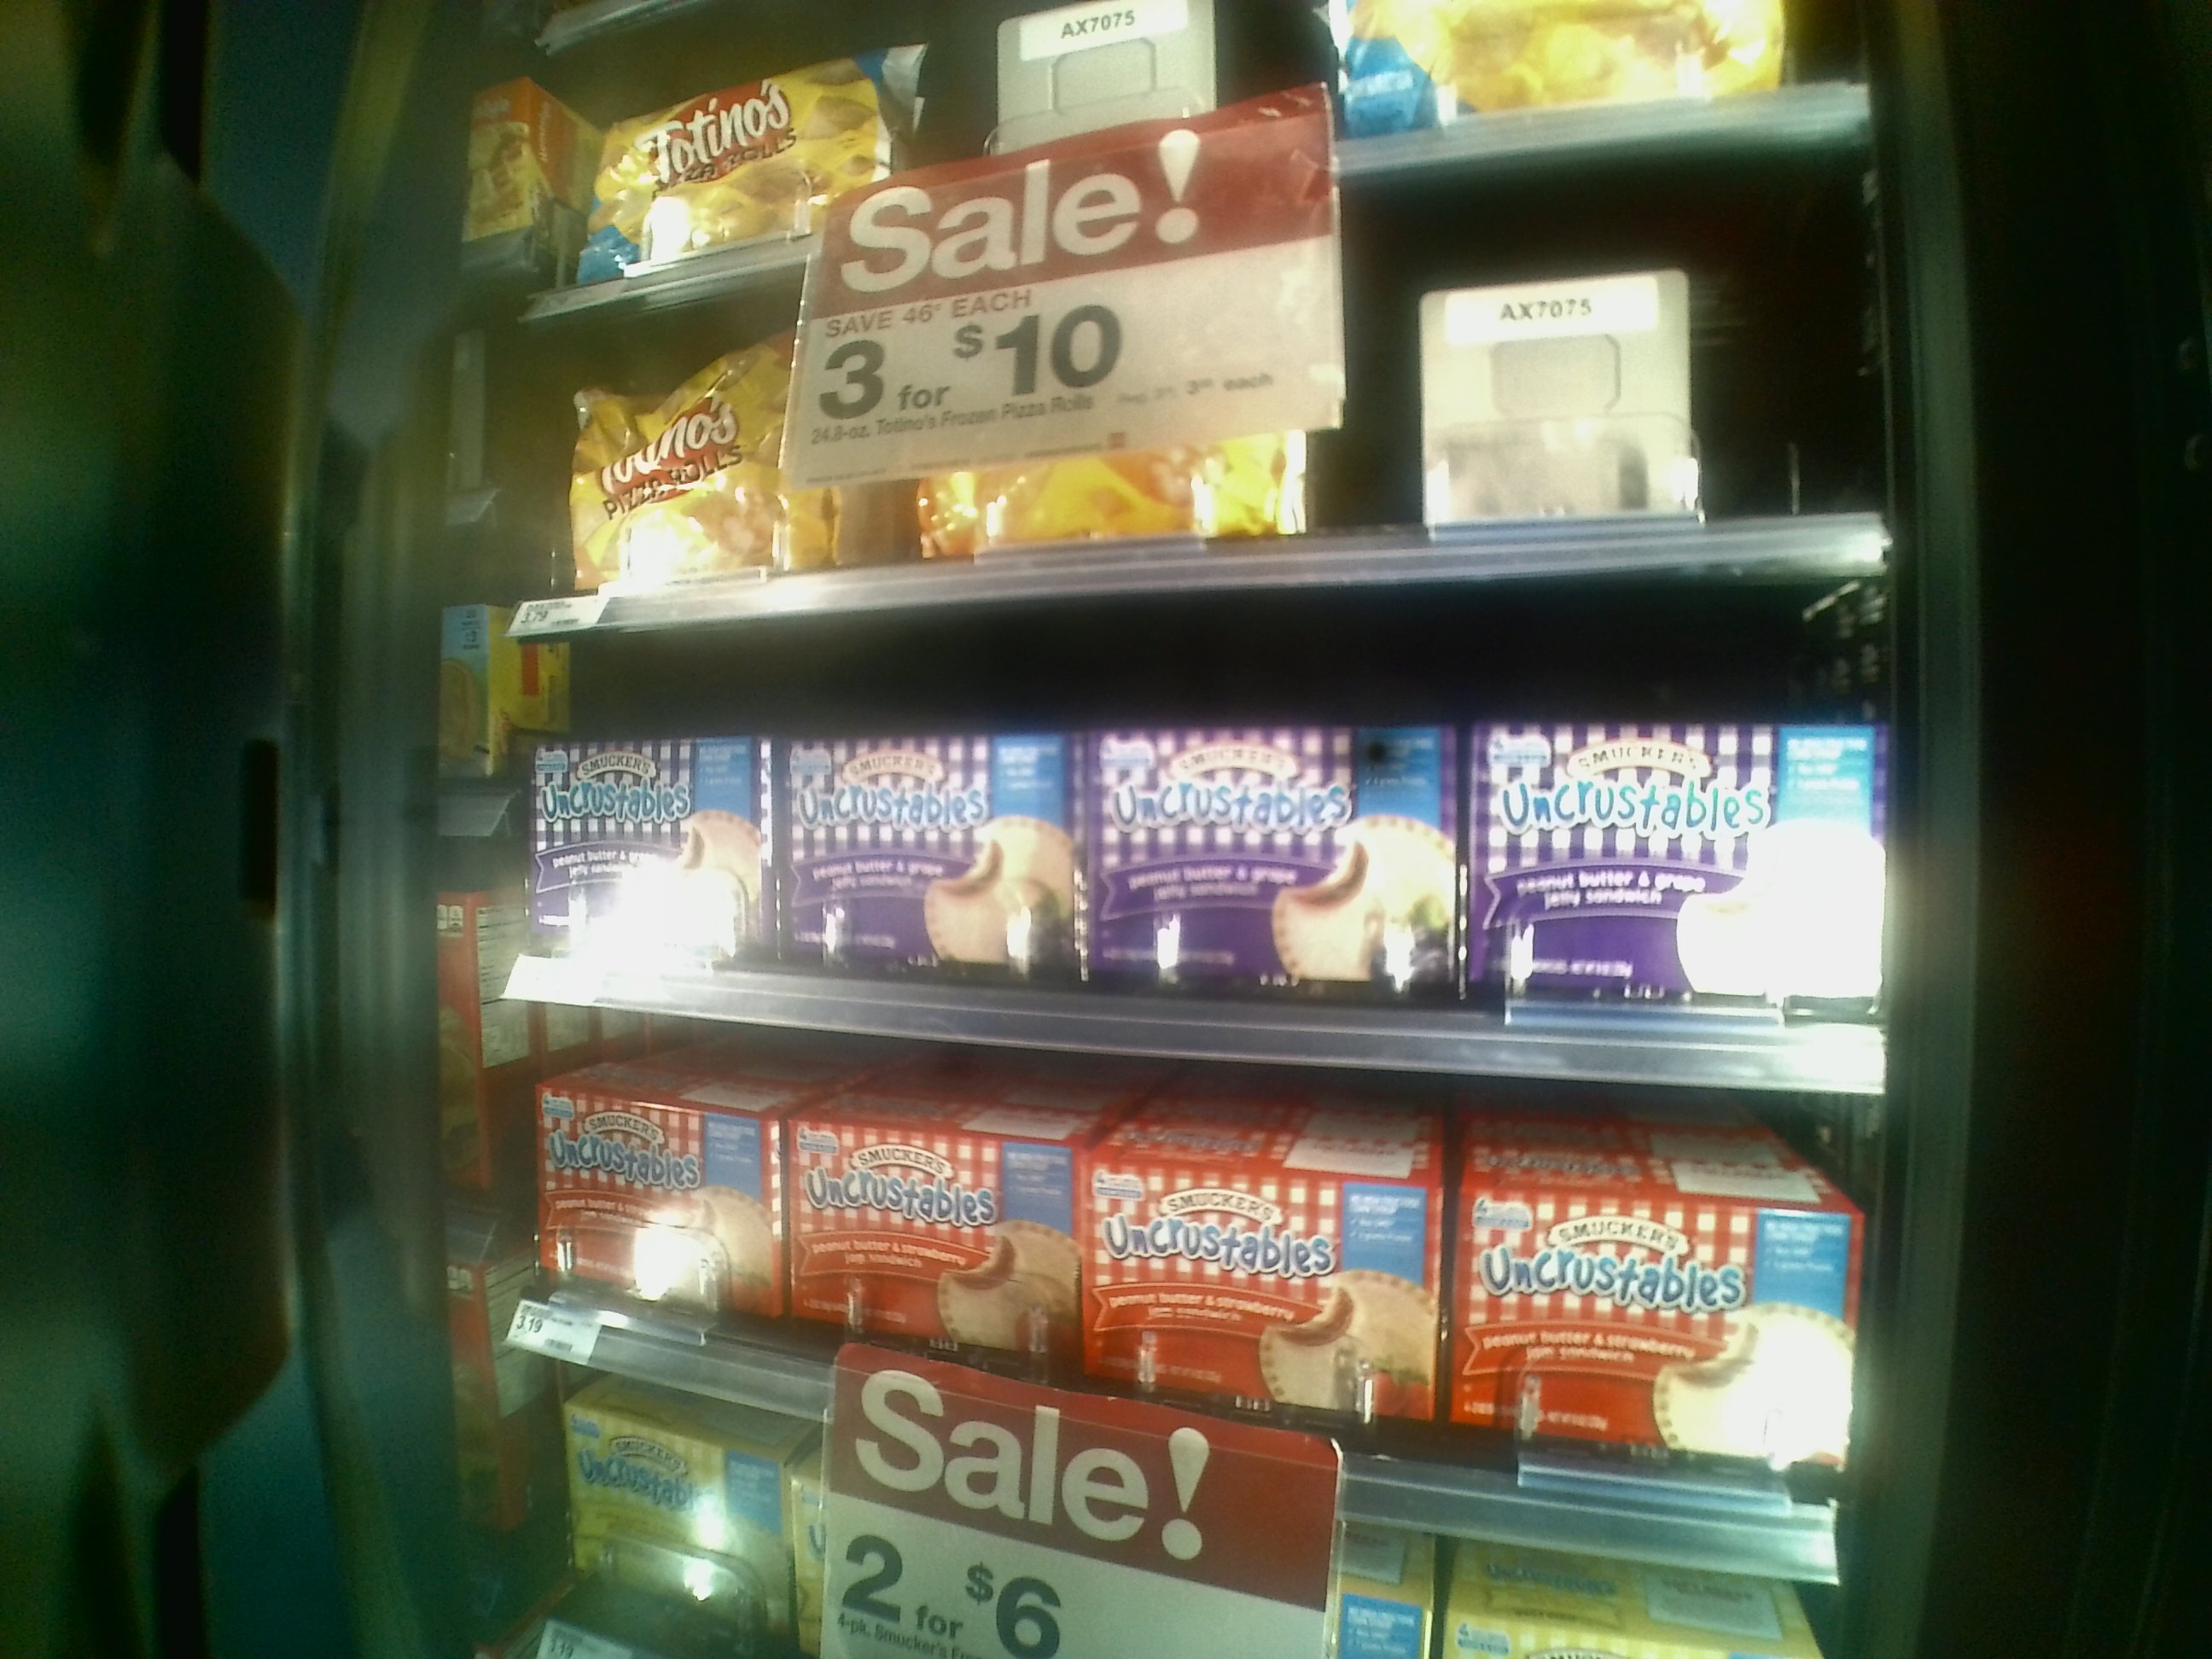shelf: (491, 992, 1869, 1582), (479, 612, 1892, 1091), (498, 291, 1874, 603)
